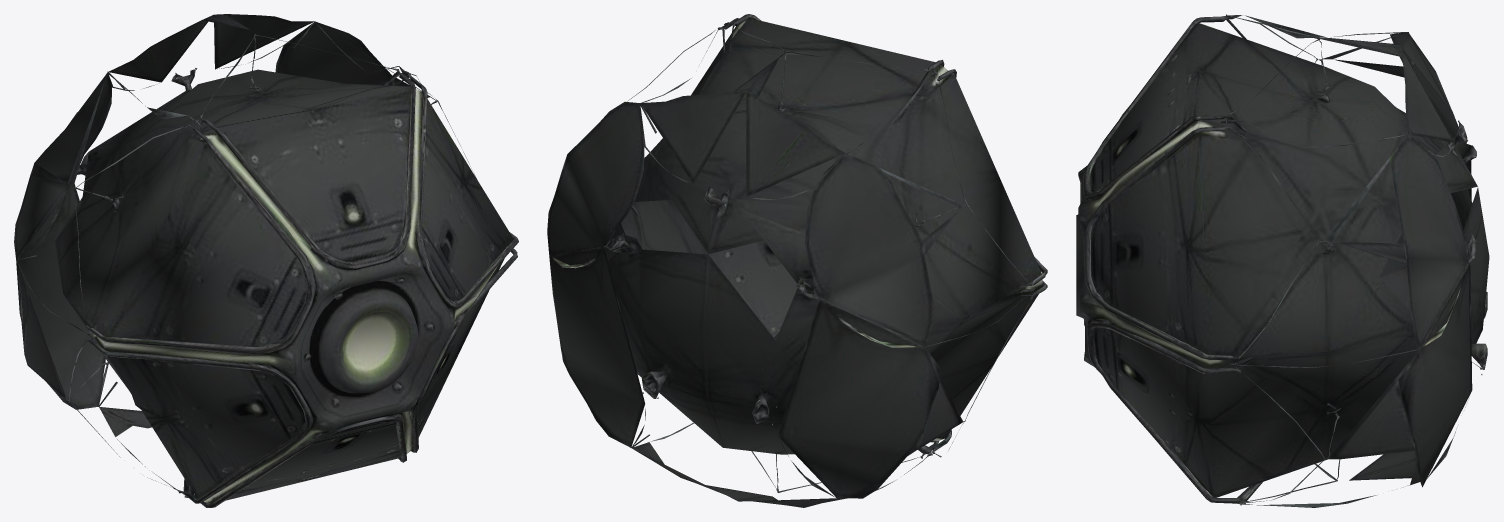
Rendered from signal-beacon.glb.
3 views of the same model, side by side, from view 1: azimuth 30°, elevation 25°; view 2: azimuth 150°, elevation 25°; view 3: azimuth 270°, elevation 25° (orthographic). The views are drawn at different scales.
Visible parts, largest first — view 1: Lime Signal Beacon; view 2: Lime Signal Beacon; view 3: Lime Signal Beacon.
Boxes of the visible parts, x1,y1,x2,y2 form: Lime Signal Beacon: (14,14,518,507); Lime Signal Beacon: (547,14,1047,507); Lime Signal Beacon: (1076,14,1489,507).
Size of the model in its own units: 0.998 by 0.998 by 0.8418.
Materials: 1 (1 with a texture image).
